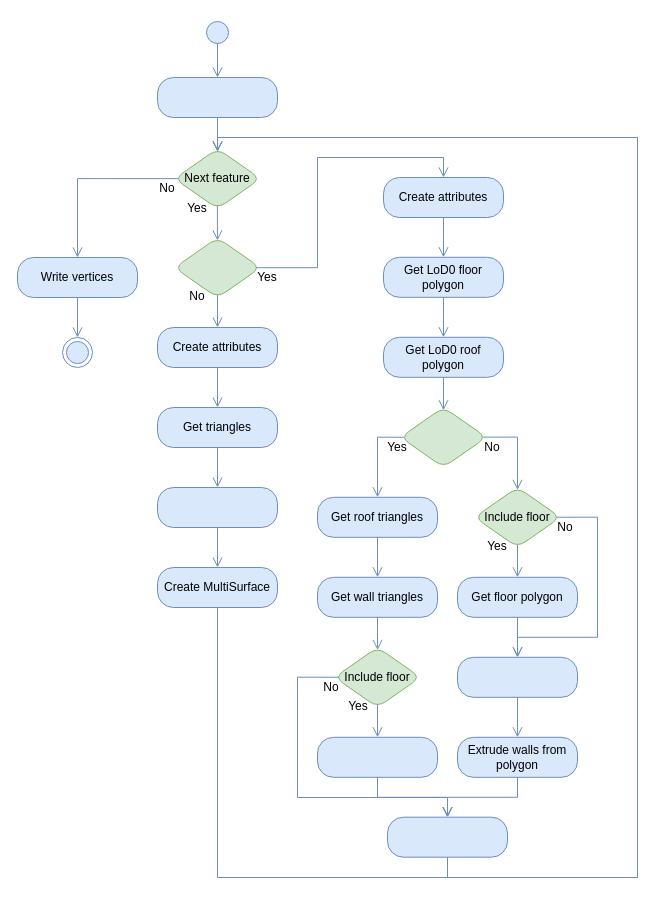
Some shapes in this 665 by 905 pixel diagram are drawn without their labels. The shapes that lost their labels are listed below. From the top down, each one's box as (x1, y1, x2, y2) in pixels, then its label:
(156, 76, 278, 118): Get CityGML header
(174, 237, 260, 298): Building
(400, 406, 486, 467): Triangulate
(156, 486, 278, 528): Get vertical triangles
(456, 656, 578, 697): Get roof polygon
(316, 736, 438, 777): Get floor triangles
(386, 816, 508, 857): Create LoD1 Solid
